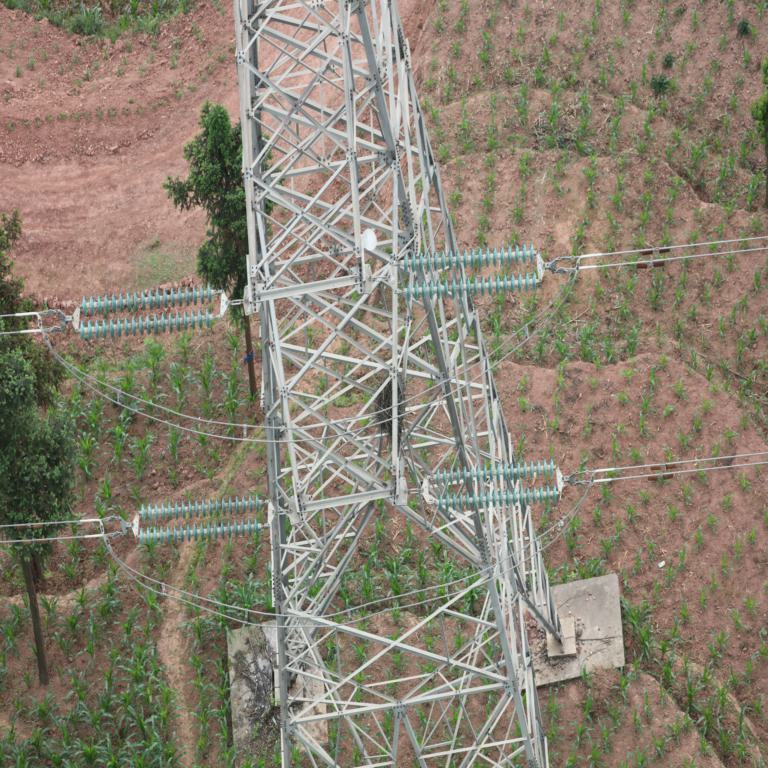nest: (374, 383, 404, 435)
